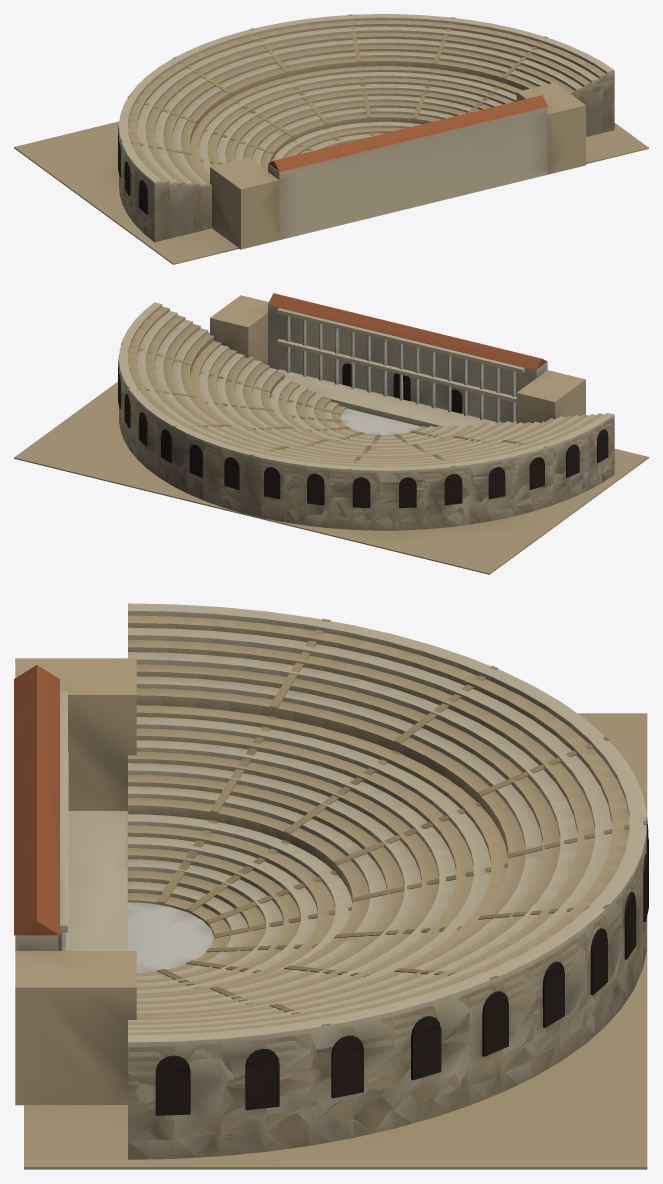
The model's file is roman-theatre.glb.
The picture shows the model from 3 angles, top to bottom: view 1: azimuth 30°, elevation 25°; view 2: azimuth 150°, elevation 25°; view 3: azimuth 270°, elevation 25°; orthographic projection. The views are drawn at different scales.
Parts seen in each view (by area): view 1: p0_cavea, p1_stage, p2_scaenae frons; view 2: p0_cavea, p1_stage, p2_scaenae frons; view 3: p0_cavea, p1_stage, p2_scaenae frons.
Part boxes in pixels (box(x1,y1,x2,y2)): p0_cavea: box(14, 14, 648, 264); p1_stage: box(118, 14, 585, 249); p2_scaenae frons: box(268, 95, 547, 171); p0_cavea: box(14, 302, 648, 574); p1_stage: box(118, 295, 608, 508); p2_scaenae frons: box(268, 293, 547, 422); p0_cavea: box(24, 603, 647, 1169); p1_stage: box(15, 618, 648, 1115); p2_scaenae frons: box(14, 665, 68, 950).
Bounding box in the file's own units: 124 × 19.1 × 73.34.
